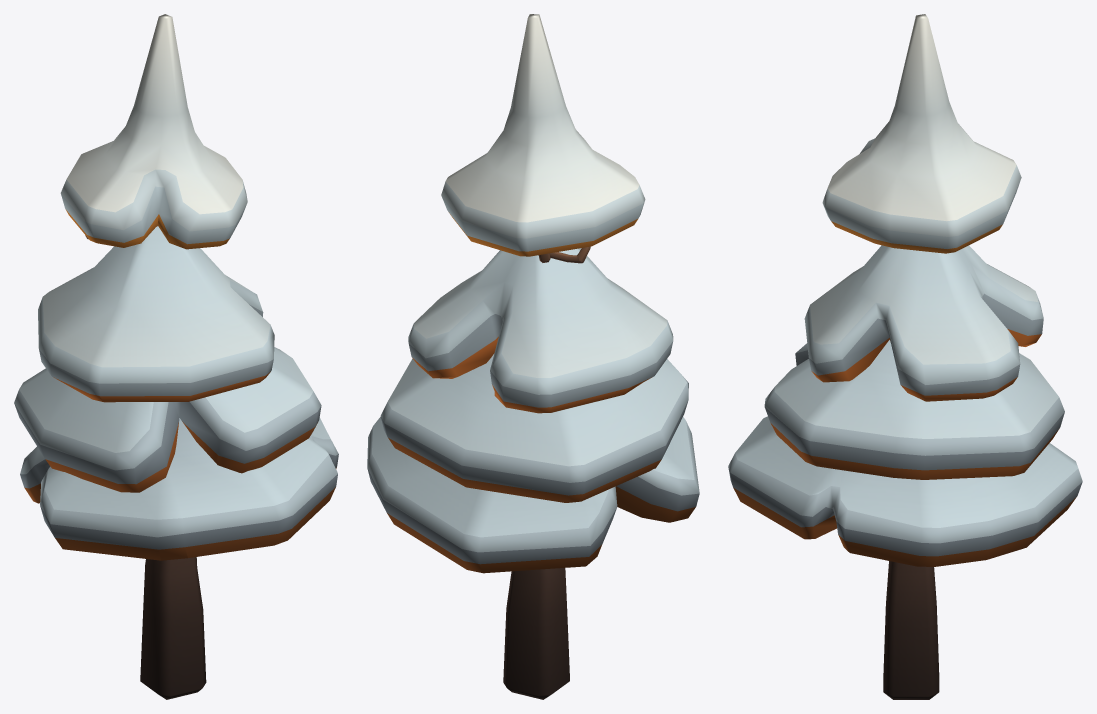
Rendered from pine_tree_col2_09_snow.fbx.
The picture shows the model from 3 angles, left to right: view 1: azimuth 30°, elevation 25°; view 2: azimuth 150°, elevation 25°; view 3: azimuth 270°, elevation 25°; orthographic projection.
Parts seen in each view (by area): view 1: pine_tree_col2_09_snow; view 2: pine_tree_col2_09_snow; view 3: pine_tree_col2_09_snow.
Boxes of the visible parts, box(x1,y1,x2,y2) form: pine_tree_col2_09_snow: box(14, 14, 338, 699); pine_tree_col2_09_snow: box(367, 14, 699, 699); pine_tree_col2_09_snow: box(728, 14, 1082, 699).
Size of the model in its own units: 384 by 830 by 395.
1 material, 1 textured.
